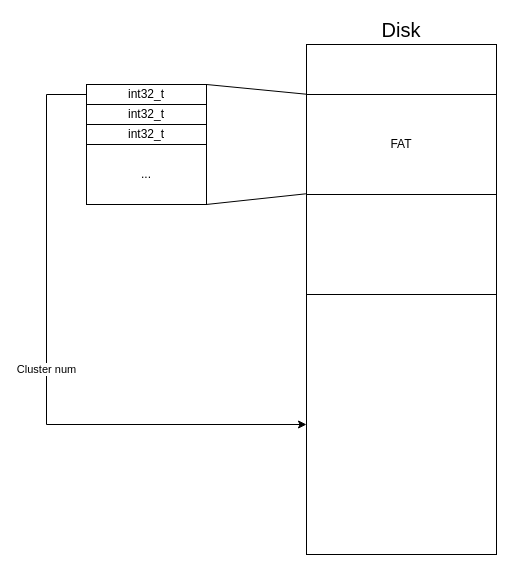
The diagram is 514 pixels wide and 572 high, and some of its shapes have lost their labels. The centre of each missing label's shape, as x and y in pixels:
"Boot record" goes at point 401,69.
"Data clusters" goes at point 401,424.
"FAT copy" goes at point 401,244.
